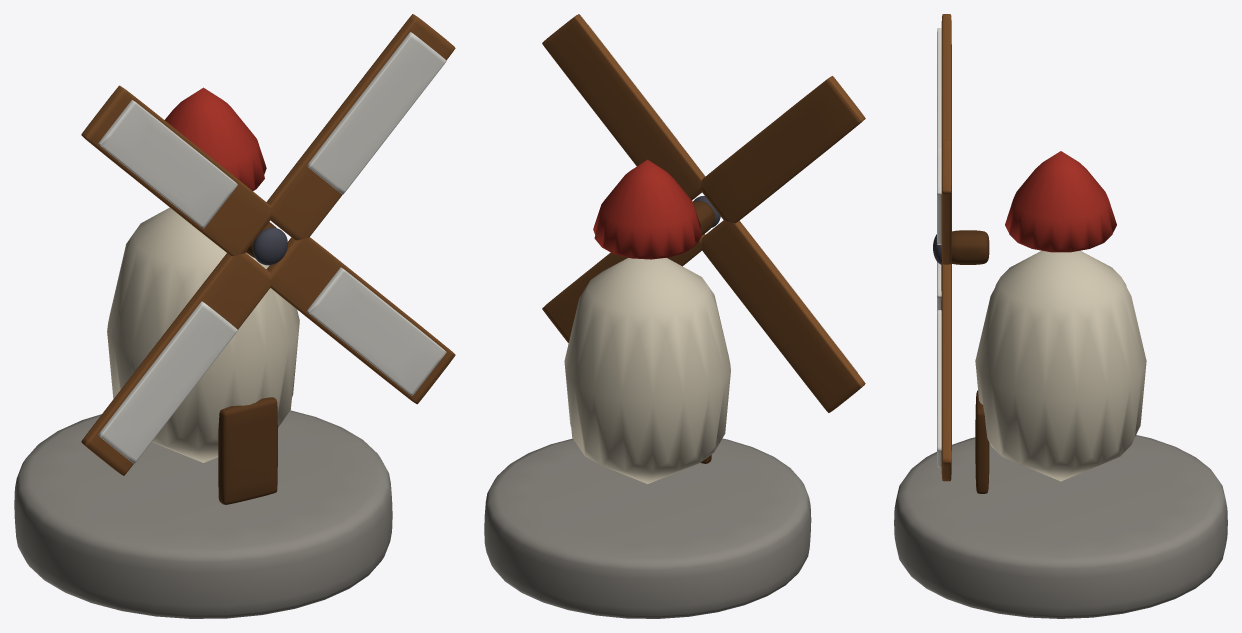
The model's file is Windmuehle.fbx.
The picture shows the model from 3 angles, left to right: view 1: azimuth 30°, elevation 25°; view 2: azimuth 150°, elevation 25°; view 3: azimuth 270°, elevation 25°; orthographic projection. The views are drawn at different scales.
Parts seen in each view (by area): view 1: Windmuehle; view 2: Windmuehle; view 3: Windmuehle.
Part boxes in pixels (box(x1,y1,x2,y2)): Windmuehle: box(14, 14, 455, 618); Windmuehle: box(484, 14, 865, 618); Windmuehle: box(894, 14, 1227, 618).
Size of the model in its own units: 1.05 by 1.48 by 0.9347.
